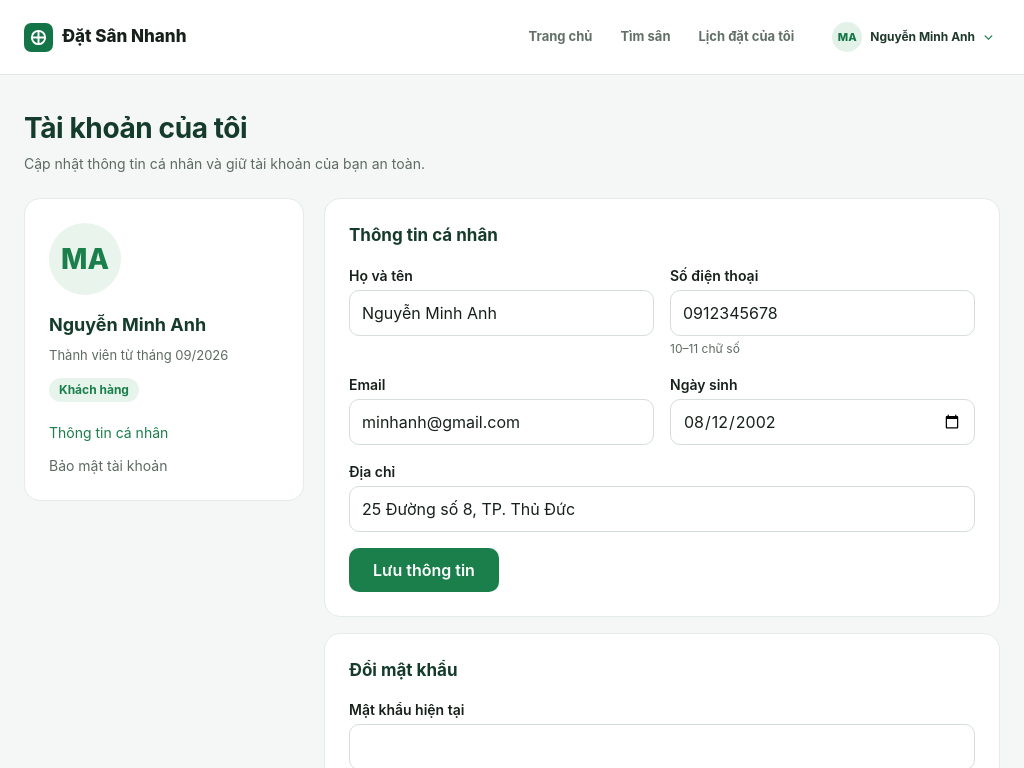
Test: AccountPage › đổi mật khẩu thành công thì xóa các ô và báo thành công
Type "matkhaucu1" into the password field labelled "Mật khẩu hiện tại" at (662, 747), box [350,725,974,767]
(page scrolled)
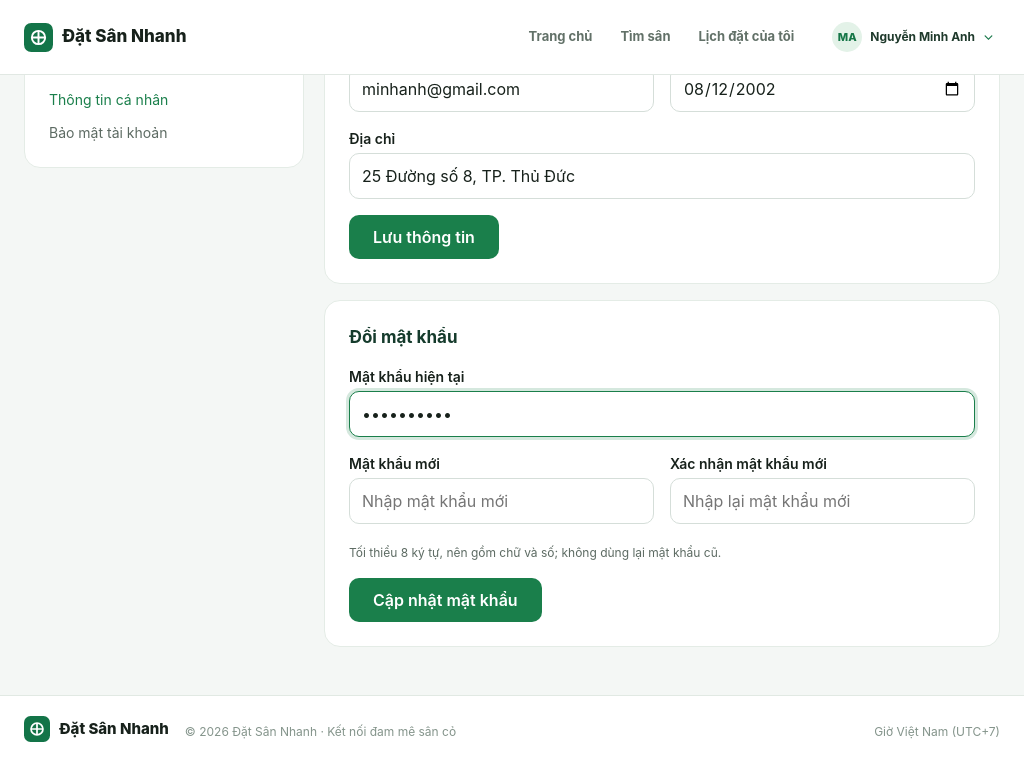
Type "matkhaumoi2" into the password field labelled "Mật khẩu mới" at (502, 501), box [350,479,653,523]
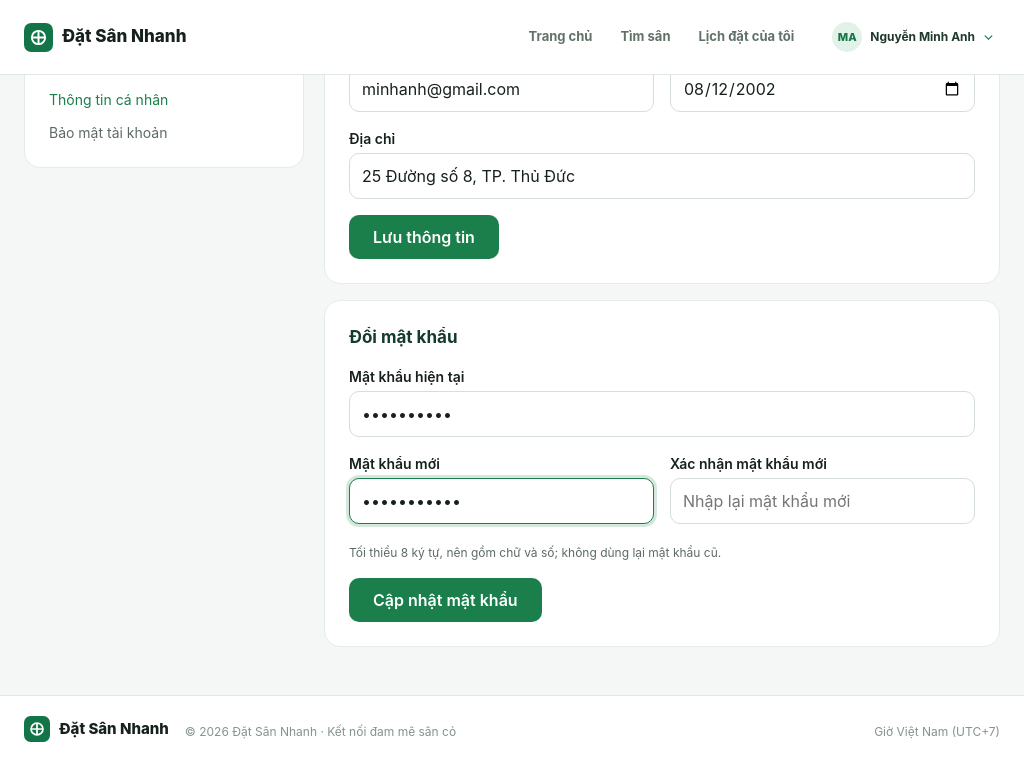
Type "matkhaumoi2" into the password field labelled "Xác nhận mật khẩu mới" at (822, 501), box [671,479,974,523]
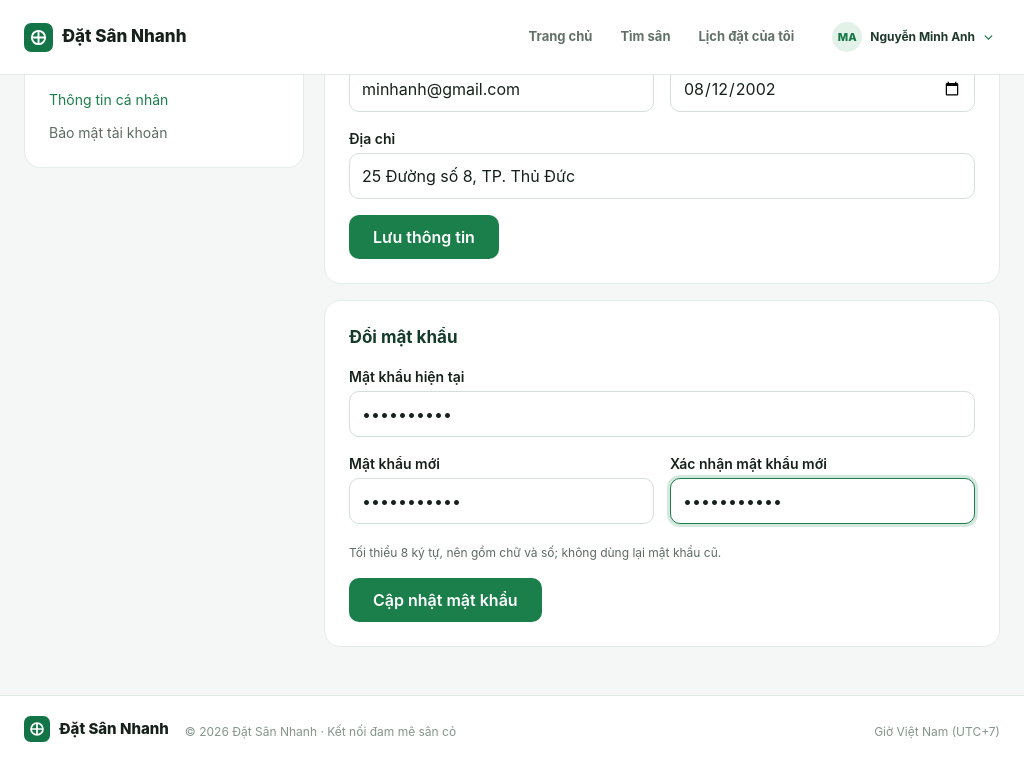
Click the button "Cập nhật mật khẩu" at (445, 600), box [349,578,542,622]
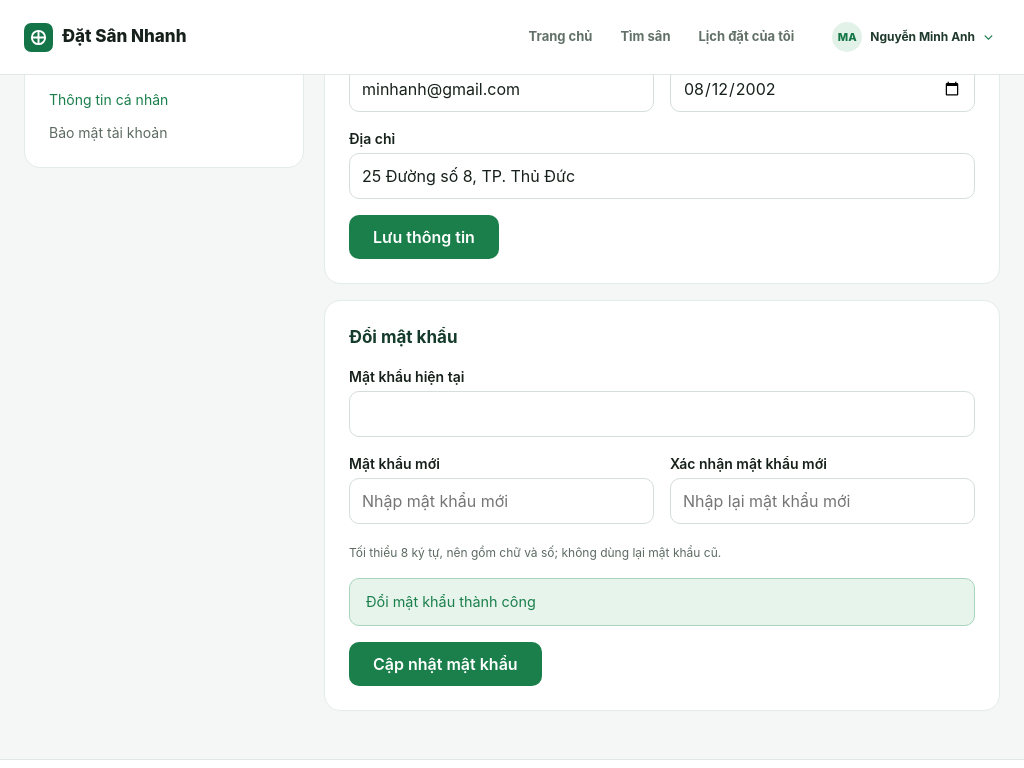
Expected: the text "Đổi mật khẩu thành công" is shown, [349,578,975,626]
Expected: the password field labelled "Mật khẩu hiện tại" is empty, [350,392,974,436]
Expected: the password field labelled "Mật khẩu mới" is empty, [350,479,653,523]
